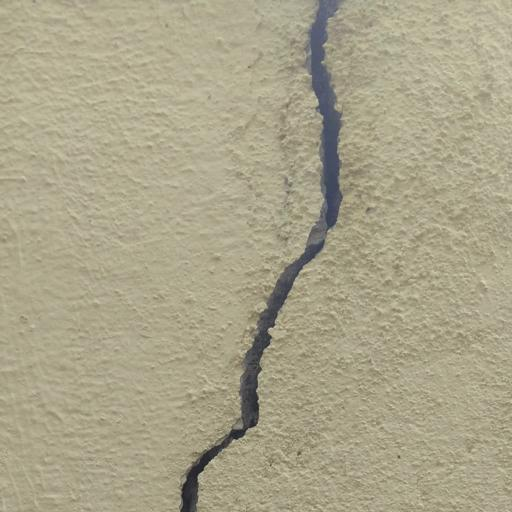major_crack: (170, 0, 357, 512)
